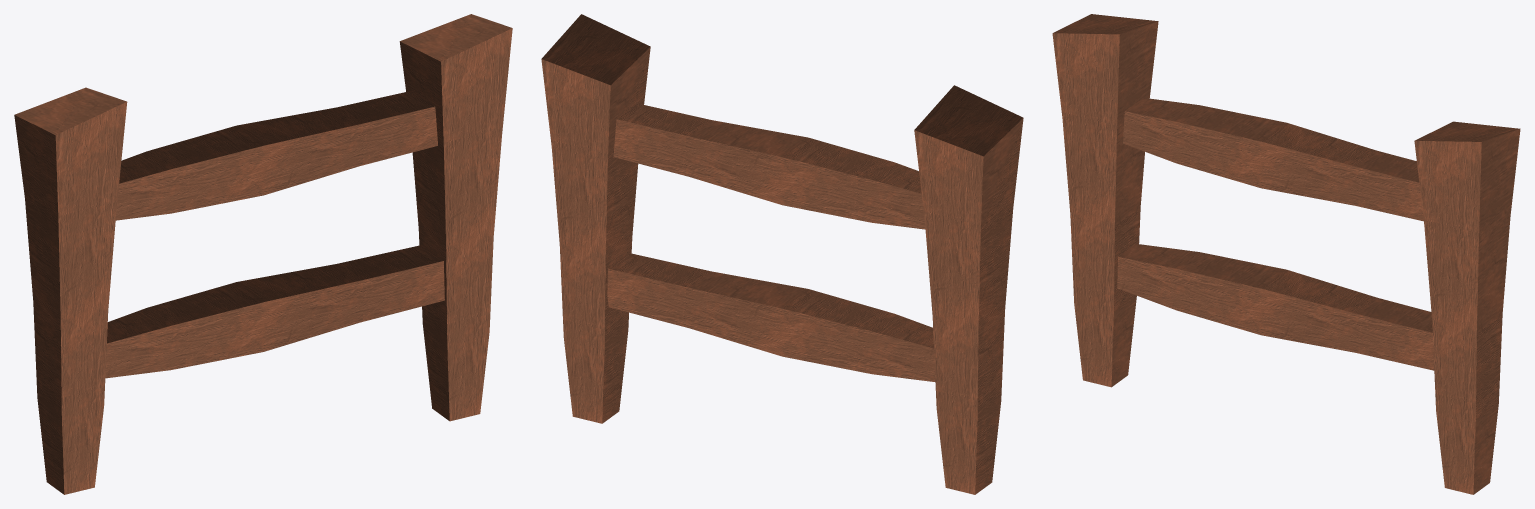
File: cit.obj
3 views of the same model, side by side, from view 1: azimuth 30°, elevation 25°; view 2: azimuth 150°, elevation 25°; view 3: azimuth 330°, elevation 25° (orthographic). The views are drawn at different scales.
Parts seen in each view (by area): view 1: Box380, Box379, Box382, Box381; view 2: Box380, Box379, Box382, Box381; view 3: Box379, Box380, Box382, Box381.
Boxes of the visible parts, <box> form: Box380: <box>14,87,127,494</box>; Box379: <box>399,14,512,421</box>; Box382: <box>105,245,444,378</box>; Box381: <box>115,90,437,220</box>; Box380: <box>914,85,1023,494</box>; Box379: <box>541,14,650,423</box>; Box382: <box>607,253,935,381</box>; Box381: <box>613,103,925,229</box>; Box379: <box>1414,121,1520,494</box>; Box380: <box>1052,14,1158,387</box>; Box382: <box>1117,243,1434,370</box>; Box381: <box>1123,97,1423,221</box>.
Size of the model in its own units: 128 by 110 by 20.08.
